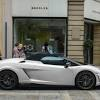Lamborghini: (1, 52, 98, 89)
